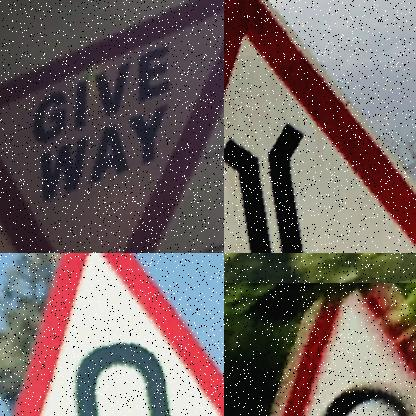Bridge Ahead: (224, 0, 416, 253)
U-Turn: (16, 253, 224, 416), (274, 284, 416, 416)
